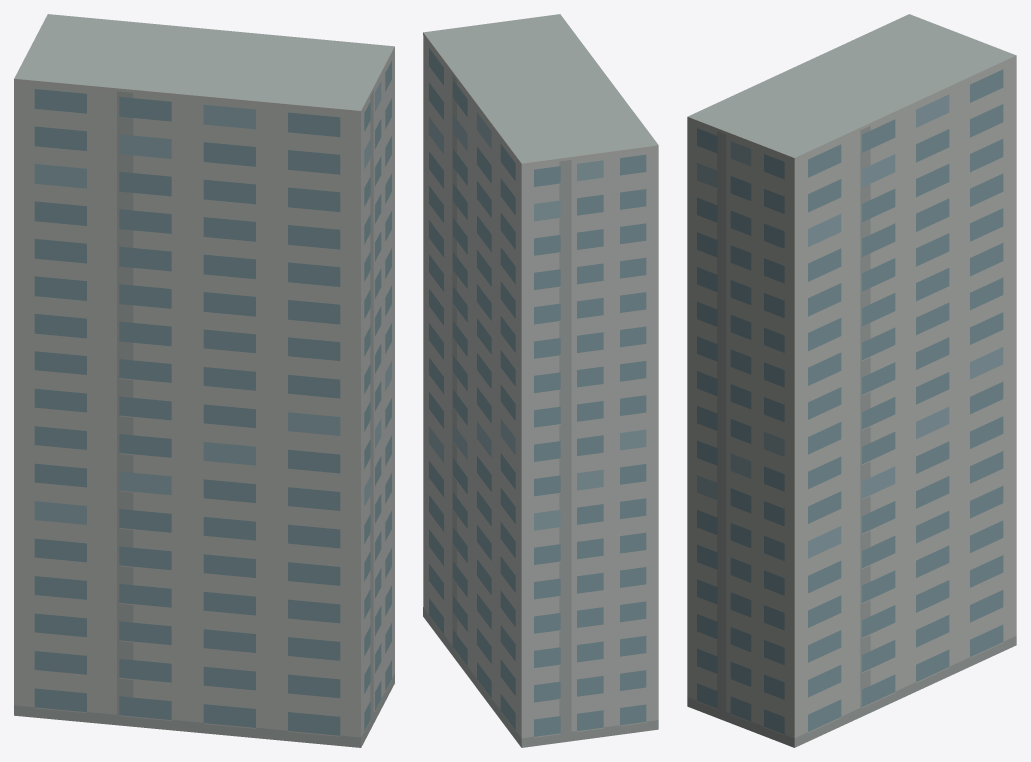
File: residential-f45b1444-b291-4519-874c-dd3c93b87393.glb
3 views of the same model, side by side, from view 1: azimuth 30°, elevation 25°; view 2: azimuth 150°, elevation 25°; view 3: azimuth 270°, elevation 25° (orthographic). The views are drawn at different scales.
Visible parts, largest first — view 1: residential-f45b1444-b291-4519-874c-dd3c93b87393.tmp; view 2: residential-f45b1444-b291-4519-874c-dd3c93b87393.tmp; view 3: residential-f45b1444-b291-4519-874c-dd3c93b87393.tmp.
Boxes of the visible parts, box(x1,y1,x2,y2) form: residential-f45b1444-b291-4519-874c-dd3c93b87393.tmp: box(14, 14, 394, 747); residential-f45b1444-b291-4519-874c-dd3c93b87393.tmp: box(423, 14, 658, 747); residential-f45b1444-b291-4519-874c-dd3c93b87393.tmp: box(687, 14, 1016, 747).
Size of the model in its own units: 26.72 by 51 by 25.8.
